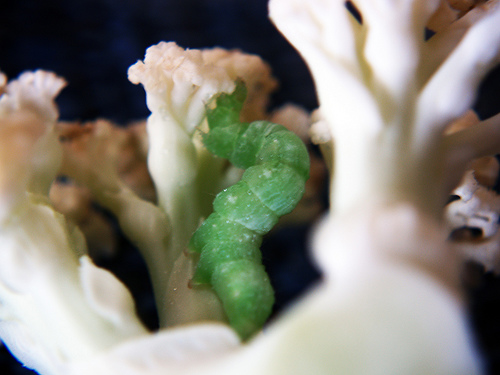cauliflower: (0, 0, 499, 373)
